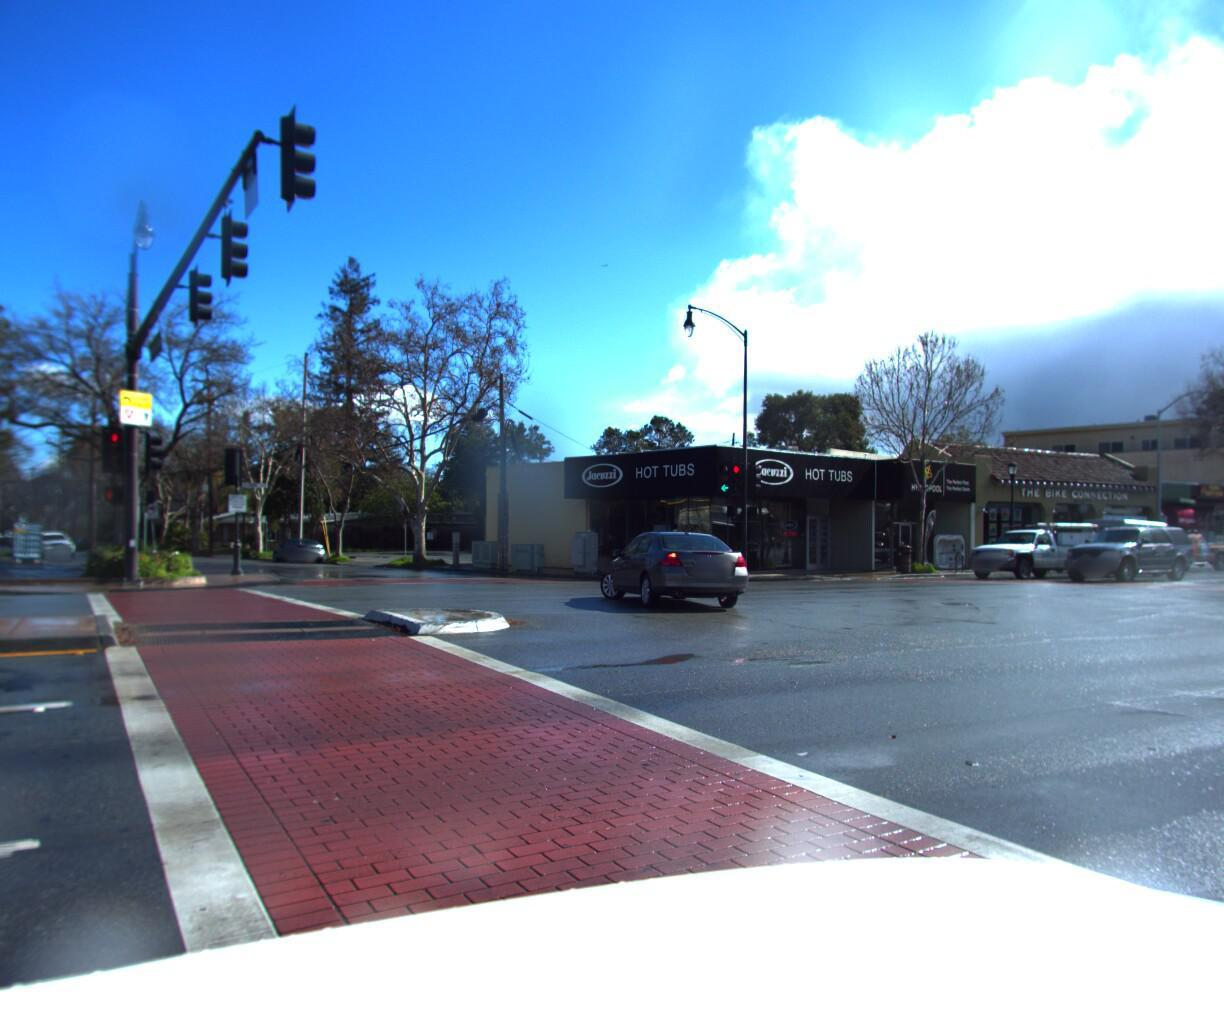car: (601, 529, 758, 616), (955, 518, 1109, 580), (1048, 521, 1196, 582), (1119, 524, 1224, 573), (267, 531, 334, 566), (27, 528, 84, 559), (1195, 534, 1224, 568), (1213, 527, 1224, 582), (1220, 530, 1224, 574)
other_vehicle: (1053, 513, 1181, 577)
